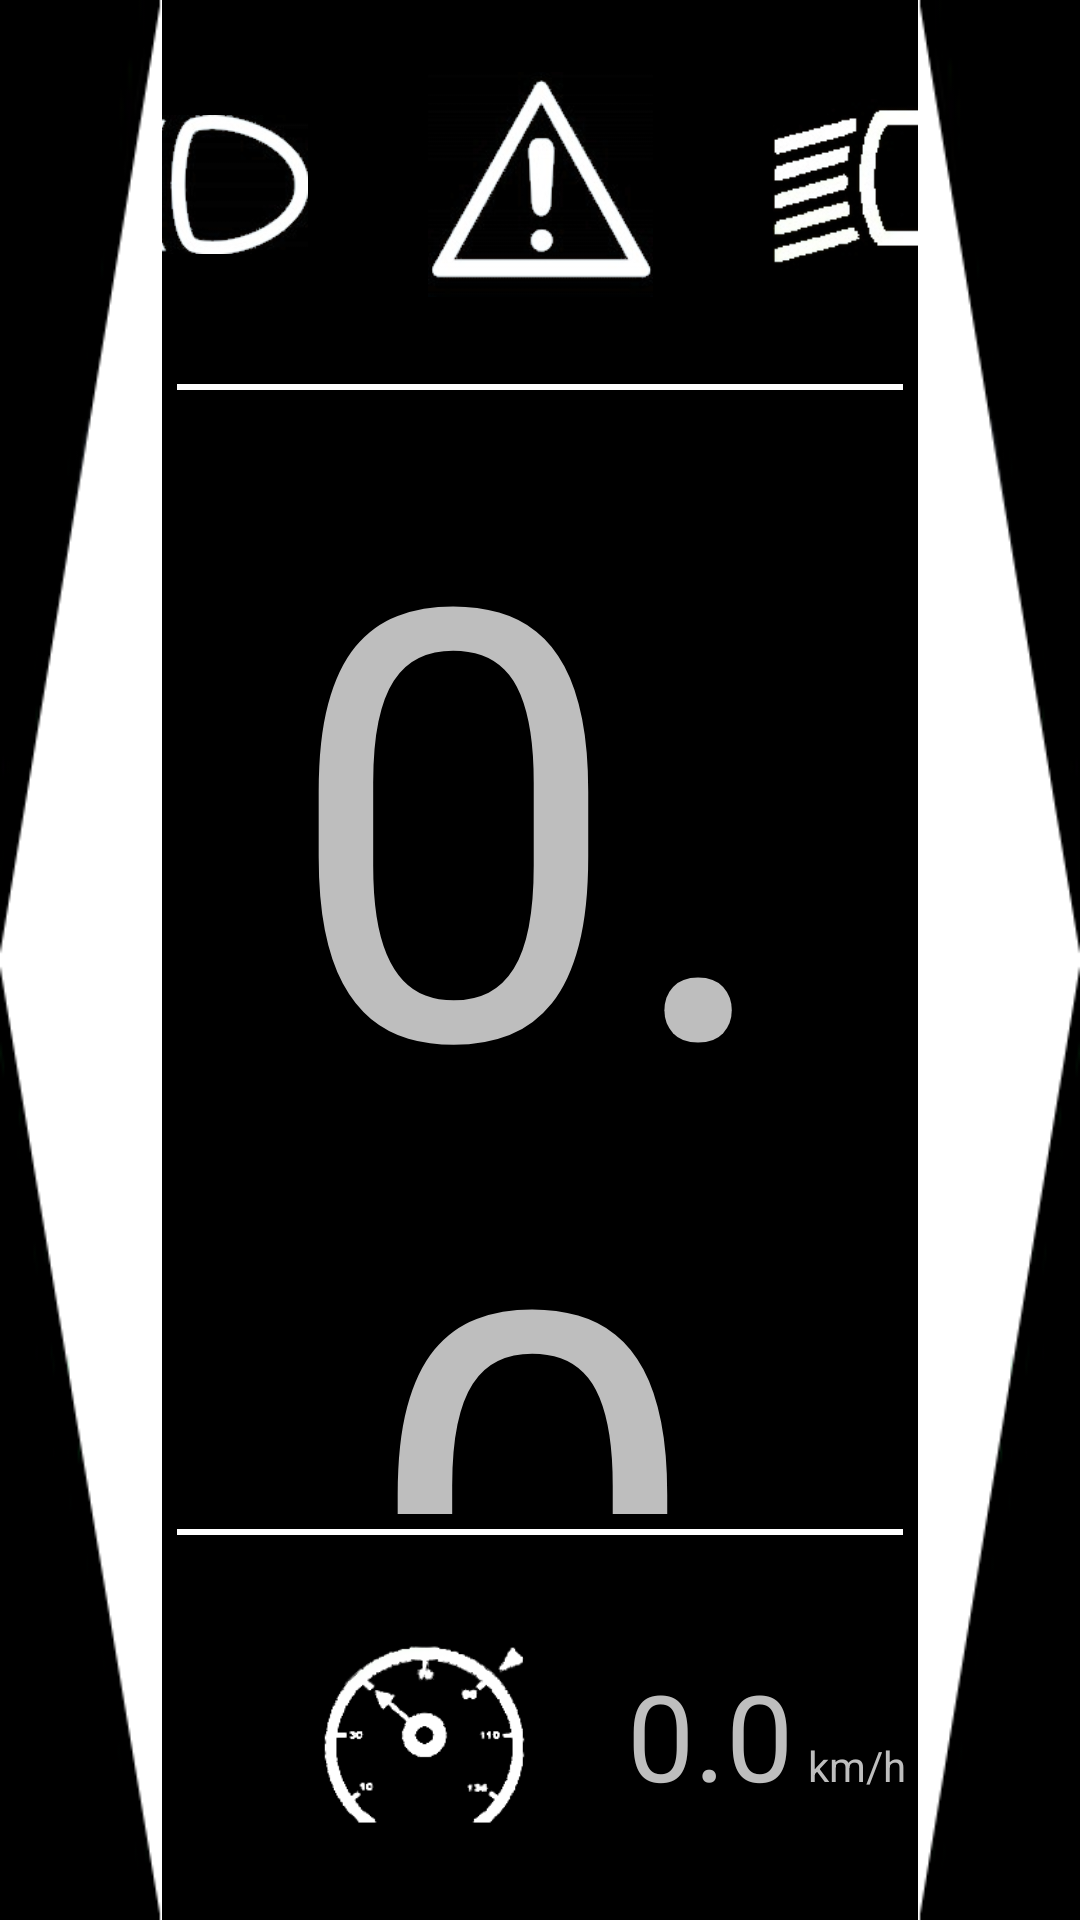

Named icons in this screenshot (1080w x 1920h) and their bounding boxes, (x1, y1, x2, y2):
speed regulator off: (324, 1646, 525, 1823)
warnings off: (432, 80, 651, 279)
